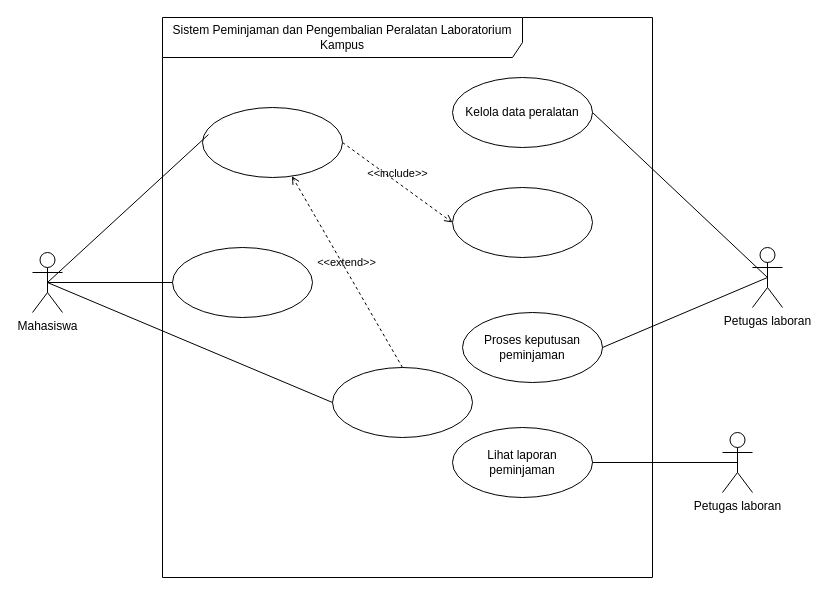
Image size: 828x595. Some labels were removed from this diagram. Each missing label, with the centre of its shape:
"Ajukan Peminjaman" goes at point 272,142.
"Cetak bukti pengajuan" goes at point 402,402.
"Lihat ketersediaan peralatan" goes at point 242,282.
"Periksa ketersediaan" goes at point 522,222.
